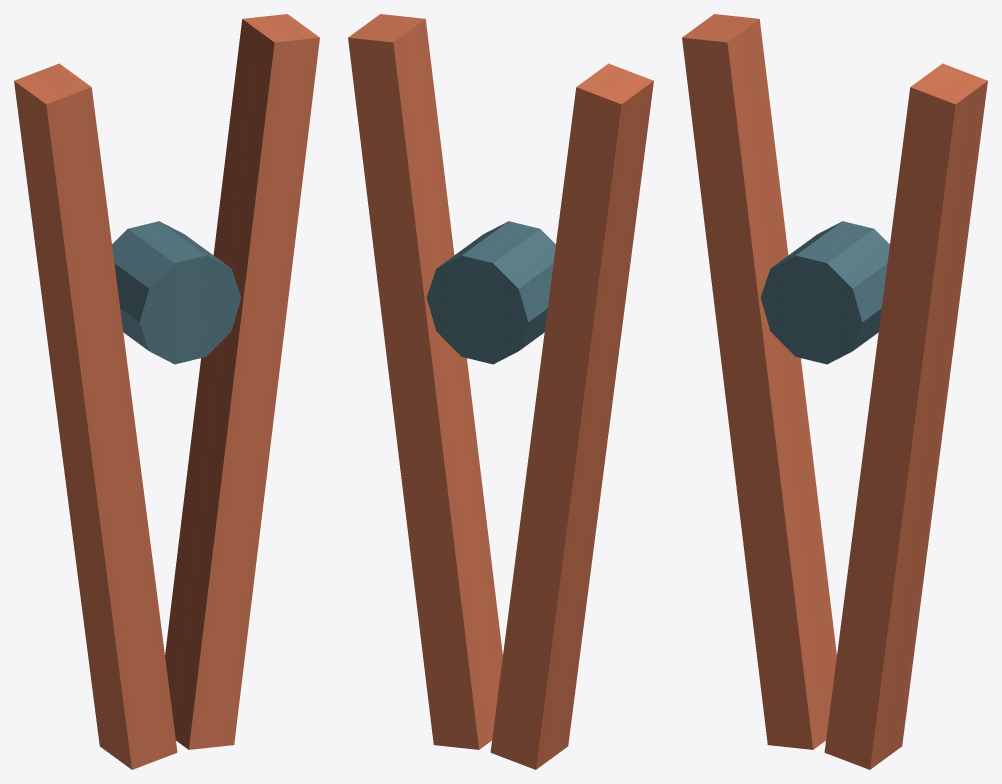
The model's file is atlas100-s047-a05.glb.
3 views of the same model, side by side, from view 1: azimuth 30°, elevation 25°; view 2: azimuth 150°, elevation 25°; view 3: azimuth 330°, elevation 25° (orthographic).
Parts seen in each view (by area): view 1: atlas100-s047-a05:part-001, atlas100-s047-a05:part-000, atlas100-s047-a05:part-002; view 2: atlas100-s047-a05:part-001, atlas100-s047-a05:part-000, atlas100-s047-a05:part-002; view 3: atlas100-s047-a05:part-000, atlas100-s047-a05:part-001, atlas100-s047-a05:part-002.
Part boxes in pixels (x1,y1,x2,y2): atlas100-s047-a05:part-001: (165,14,319,749); atlas100-s047-a05:part-000: (14,63,177,769); atlas100-s047-a05:part-002: (112,221,241,364); atlas100-s047-a05:part-001: (348,14,502,749); atlas100-s047-a05:part-000: (490,63,653,769); atlas100-s047-a05:part-002: (426,221,555,364); atlas100-s047-a05:part-000: (682,14,836,749); atlas100-s047-a05:part-001: (824,63,987,769); atlas100-s047-a05:part-002: (760,221,889,364).
Size of the model in its own units: 0.2936 by 0.7102 by 0.0874.
Materials: 2 (2 with a texture image).
